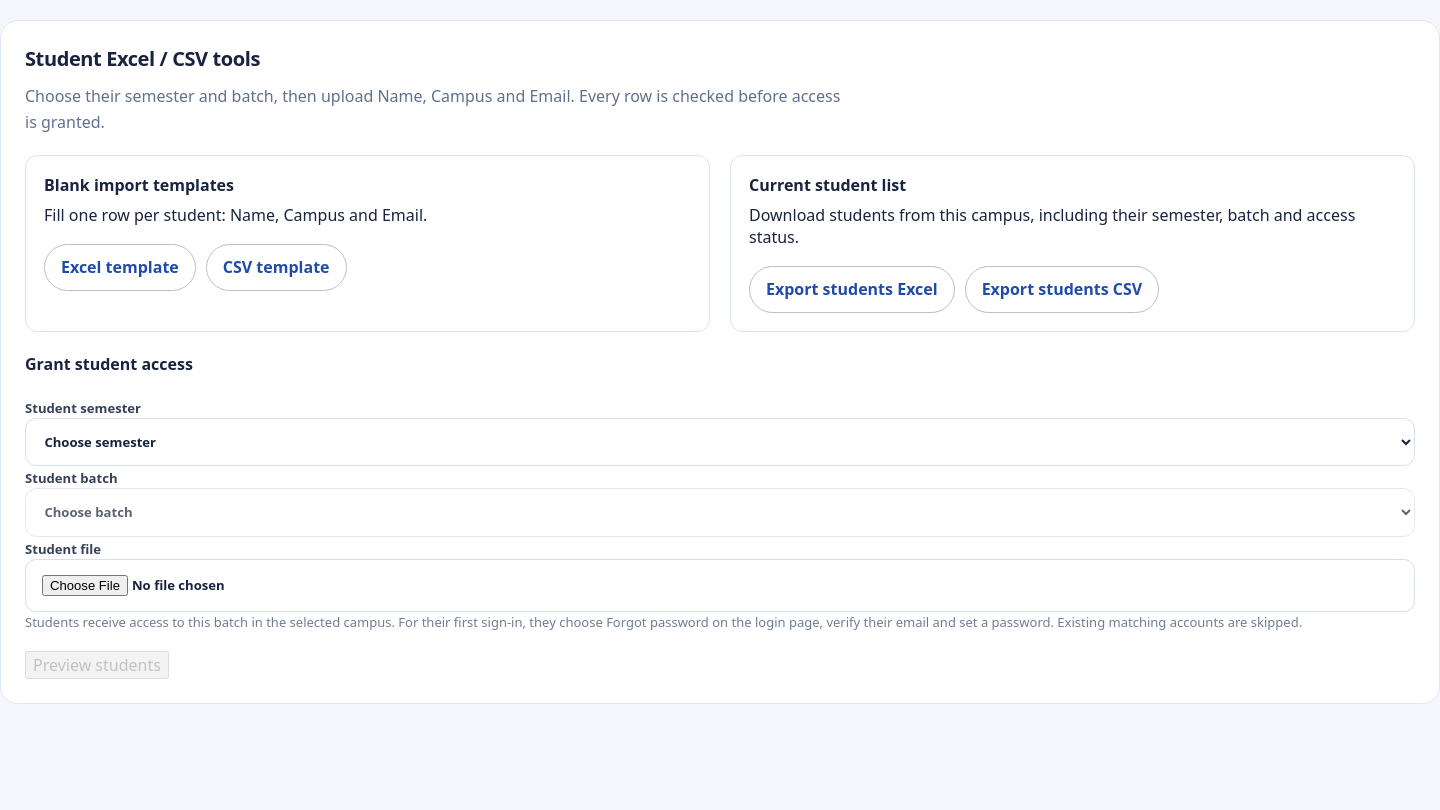
Test case: shows permission errors without downloading an error response as a student file
Click the button "Export students CSV" at (1062, 289), box top-left (965, 266), bottom-right (1159, 313)
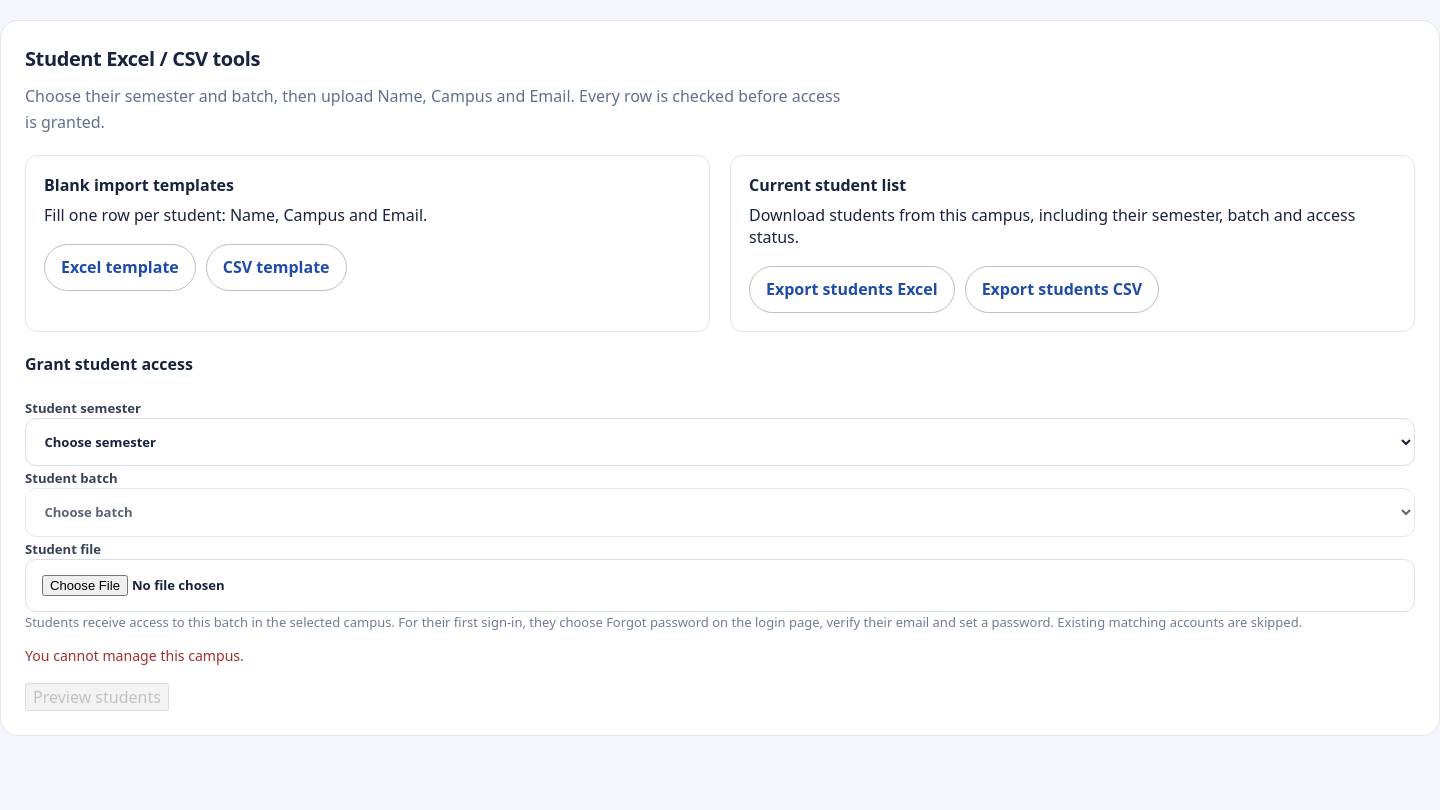
Result: the message reads "You cannot manage this campus." at top-left (25, 646), bottom-right (244, 665)
